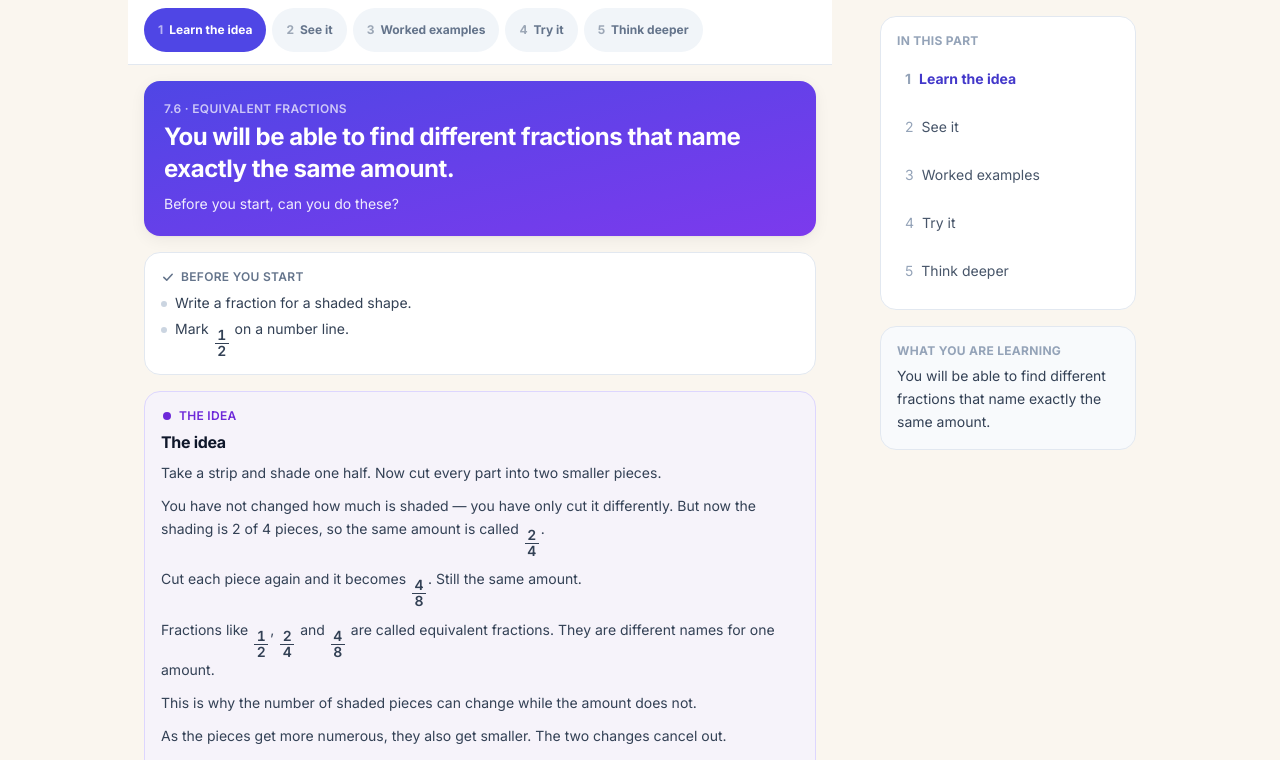
Scenario: §13 worked examples show mathematical structure › separates the move from its justification
This screenshot has width=1280, height=760.
Click the 1st button "3Worked examples".
click(426, 30)  # box [353,8,499,52]
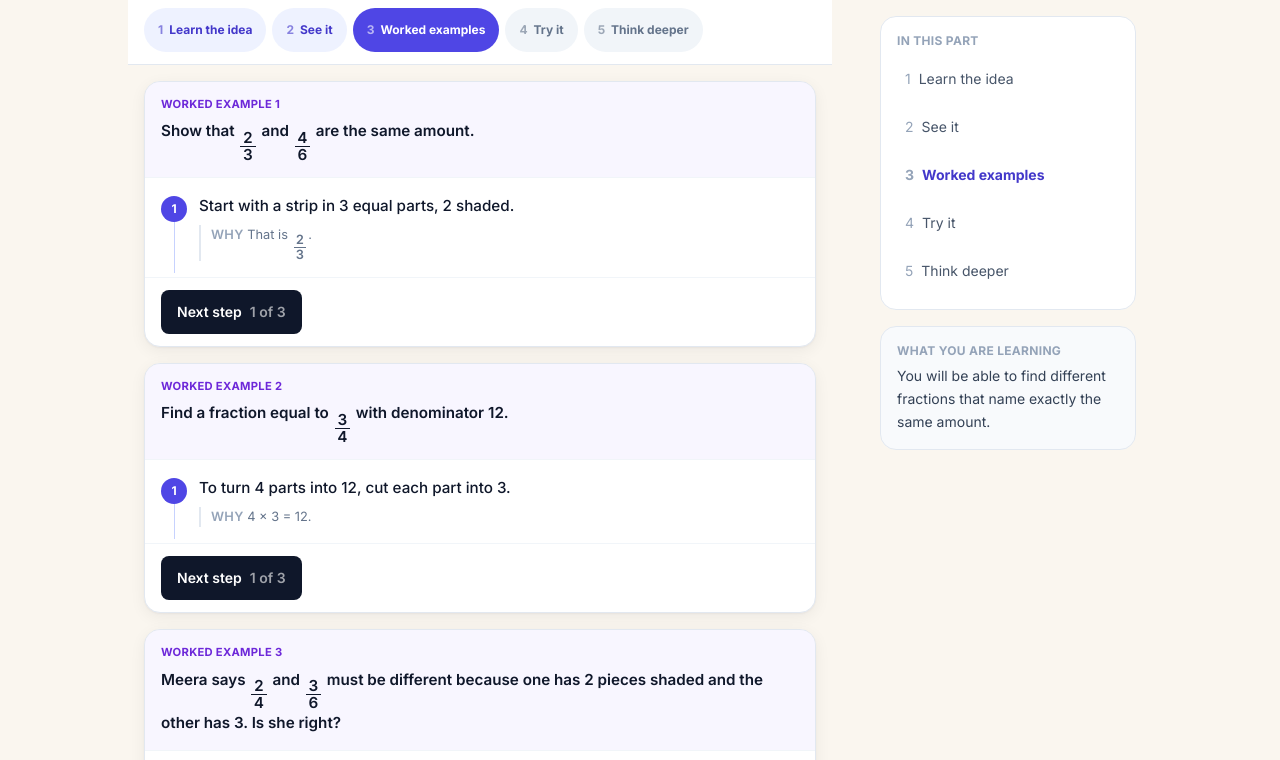
Expected: the text "Why" is shown, [211,227,247,242]
Expected: the text "Worked example 1" is shown, [161,97,280,111]
